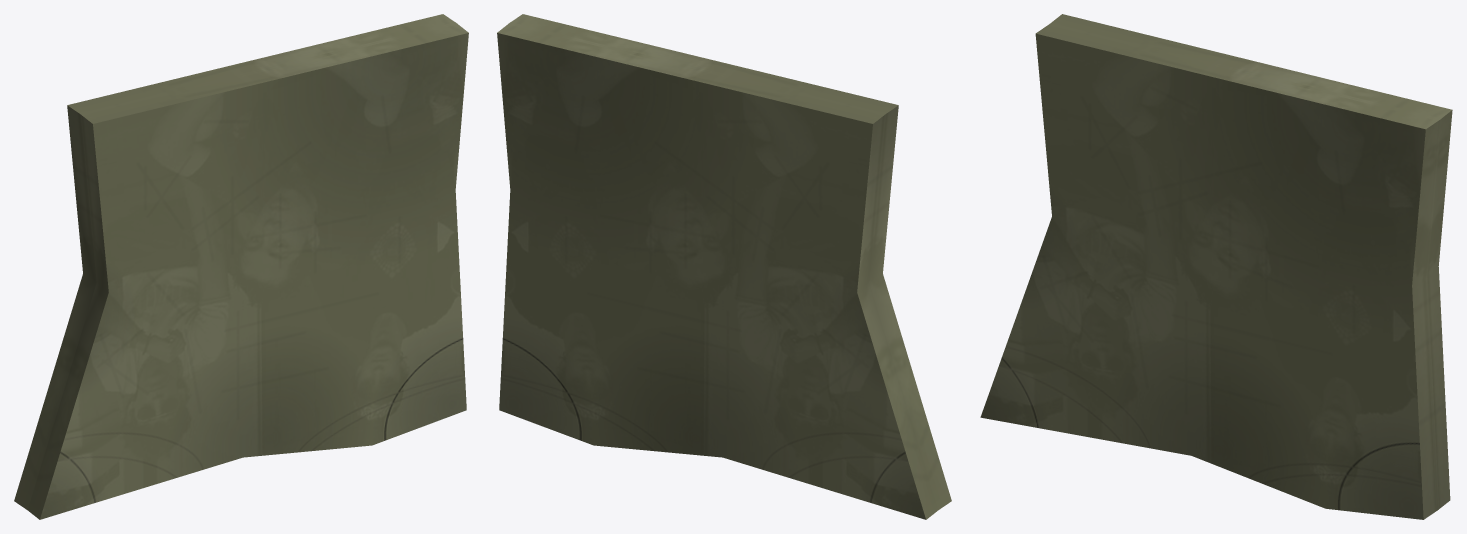
File: ANIMCAO.OBJ
3 renders of one model, left to right at view 1: azimuth 30°, elevation 25°; view 2: azimuth 150°, elevation 25°; view 3: azimuth 330°, elevation 25°, orthographic. The views are drawn at different scales.
Parts seen in each view (by area): view 1: Triangles1, Duplicate02; view 2: Duplicate02, Triangles1; view 3: Triangles1, Duplicate02.
Part boxes in pixels (x1,y1,x2,y2): Triangles1: (27,22,468,519); Duplicate02: (14,14,457,509); Duplicate02: (497,22,938,519); Triangles1: (508,14,951,509); Triangles1: (980,23,1441,519); Duplicate02: (1049,14,1452,510).
Size of the model in its own units: 135 by 117 by 14.
Materials: 1 (1 with a texture image).
